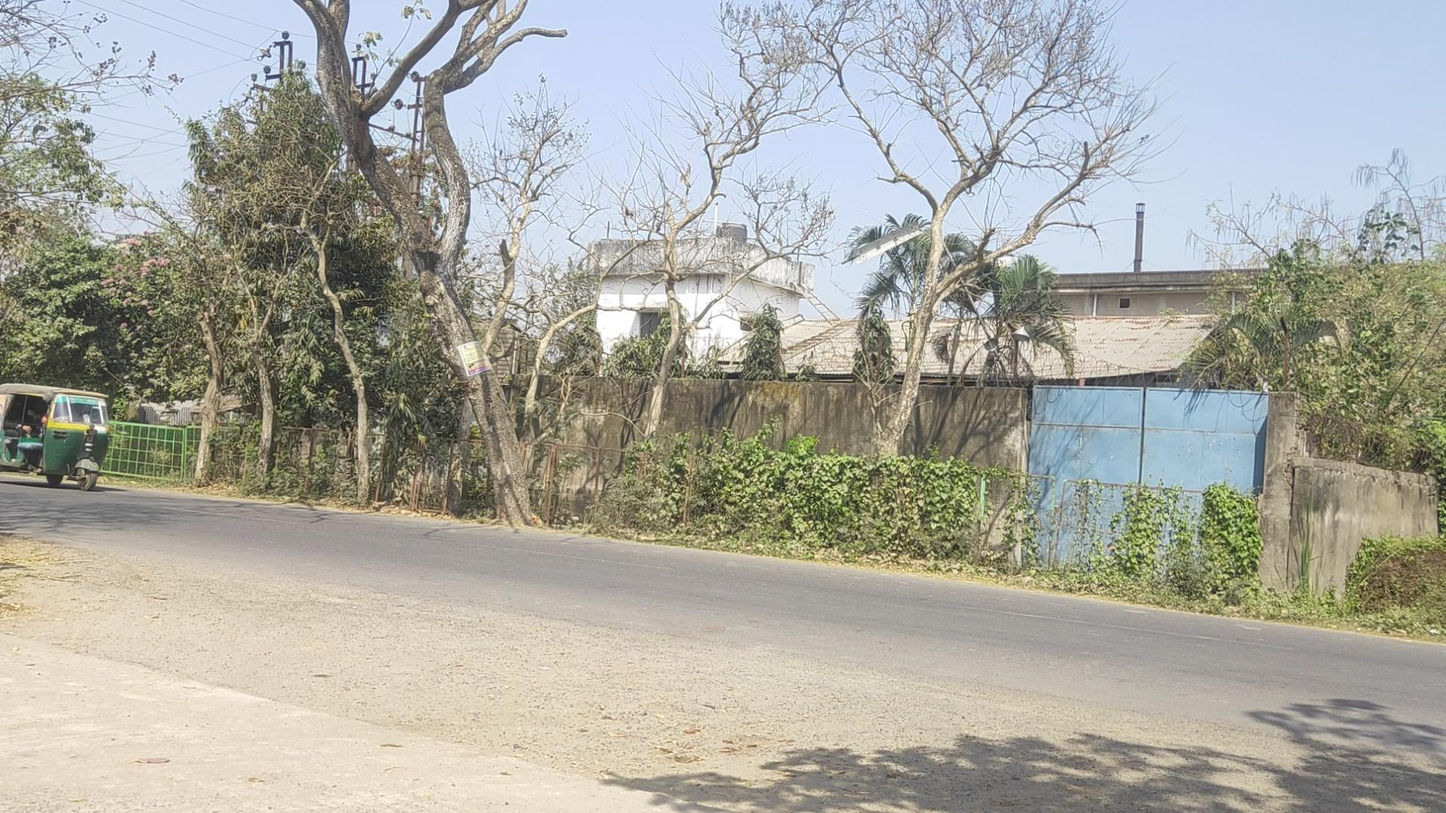Auto: (1, 382, 111, 492)
